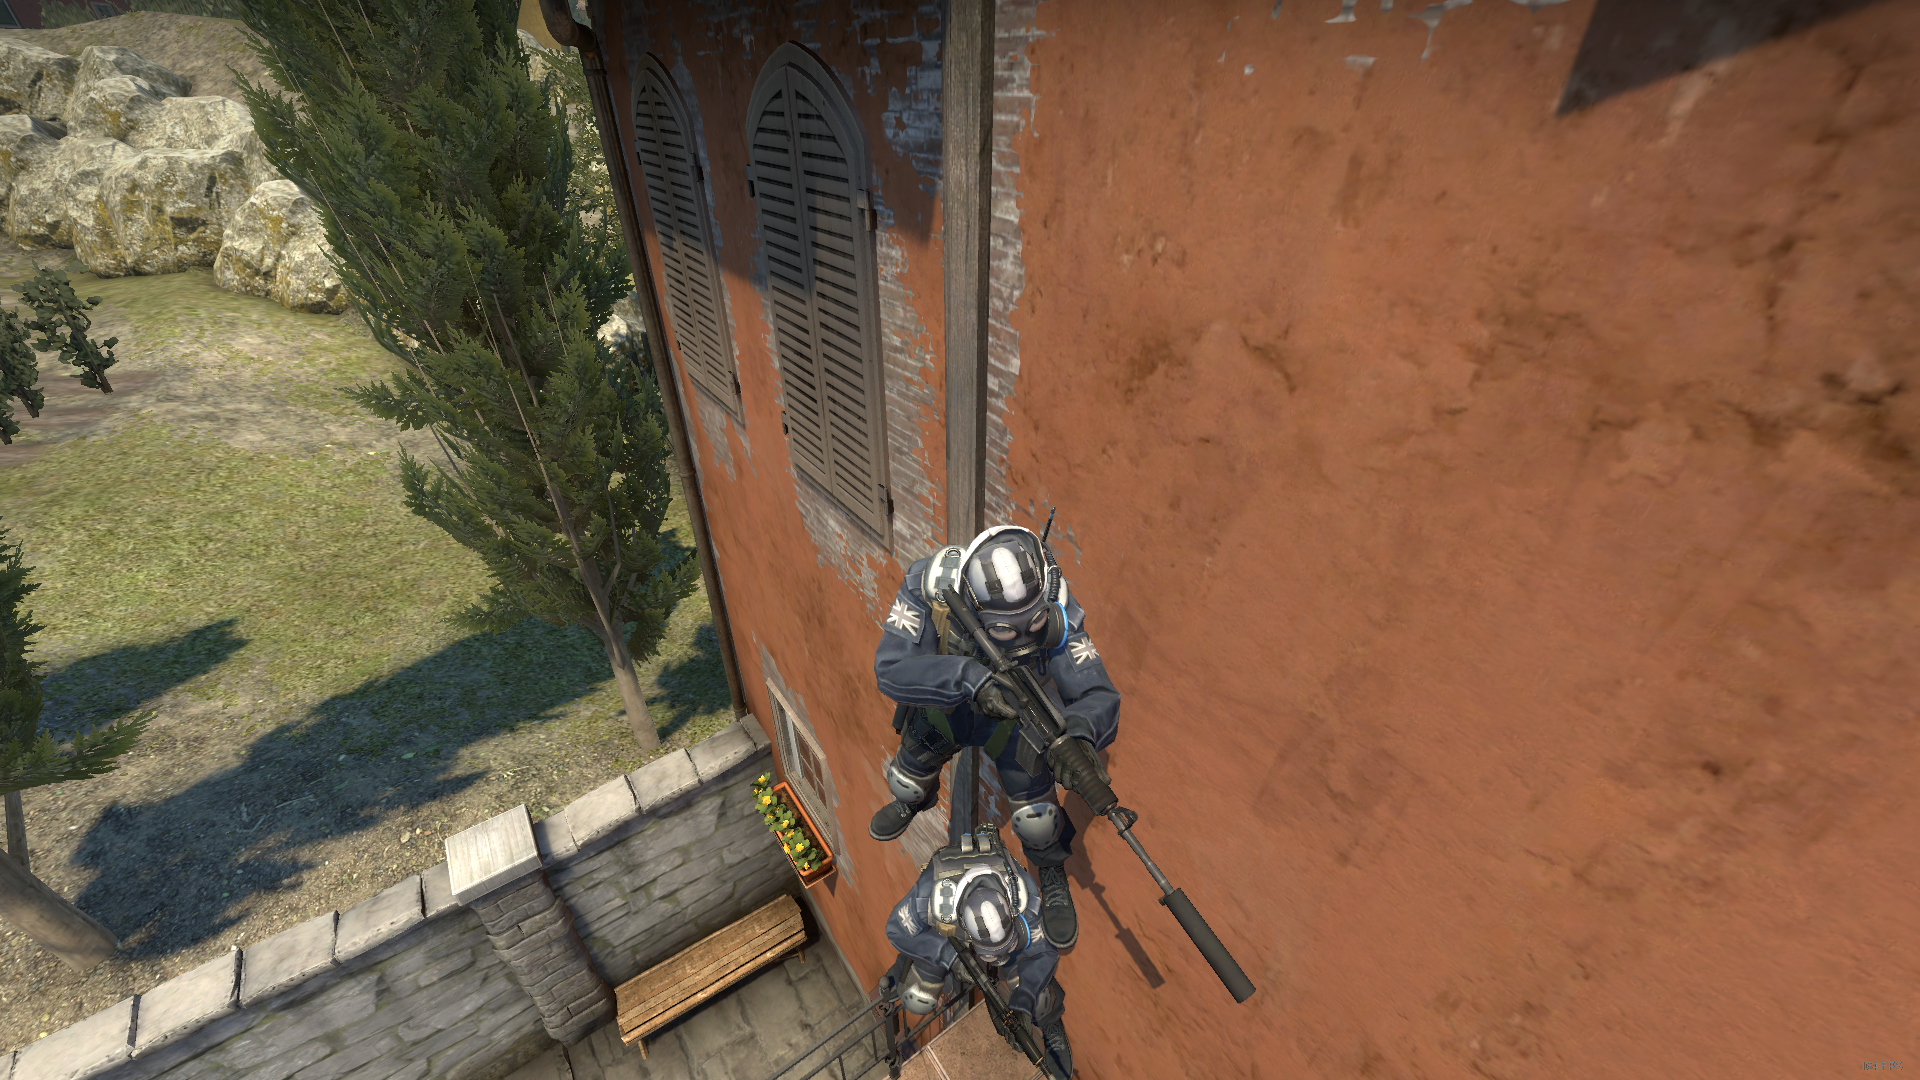ct: (856, 520, 1102, 949), (880, 833, 1087, 1067)
